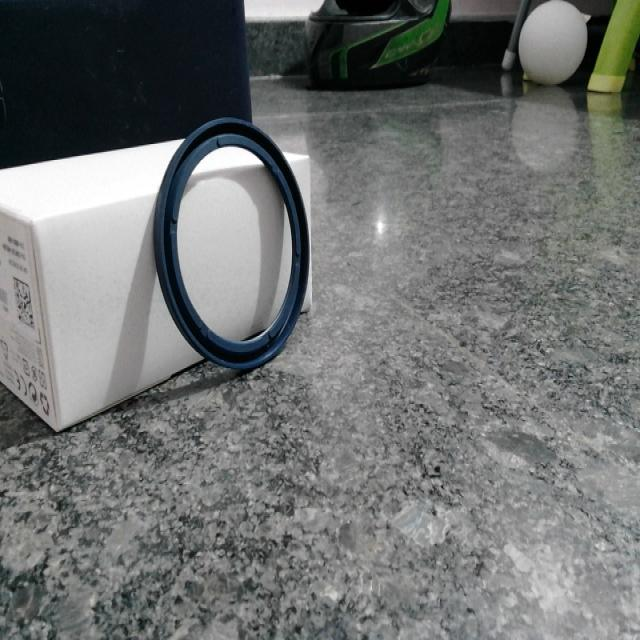cobalt-W-ring: (154, 120, 309, 370)
